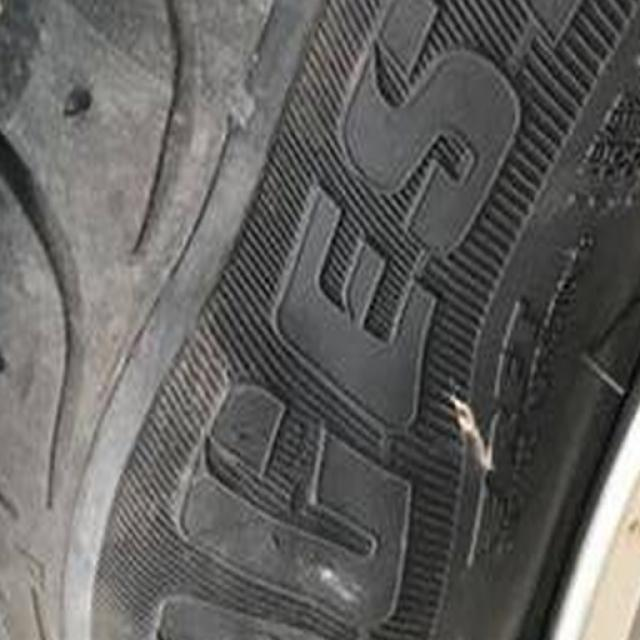Bulge: (36, 311, 399, 640)
